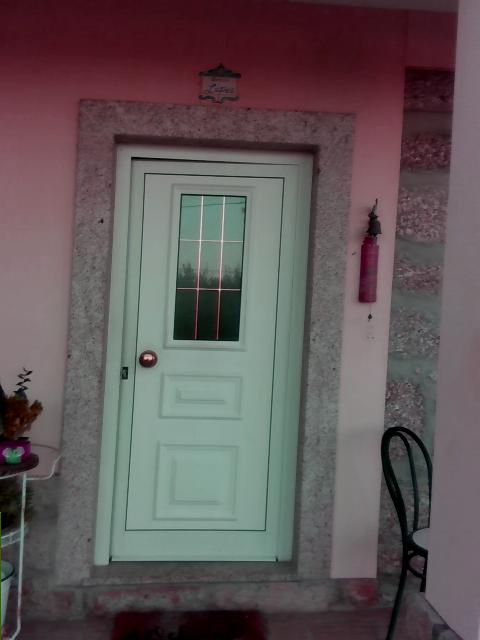closed_door: (93, 138, 317, 575)
